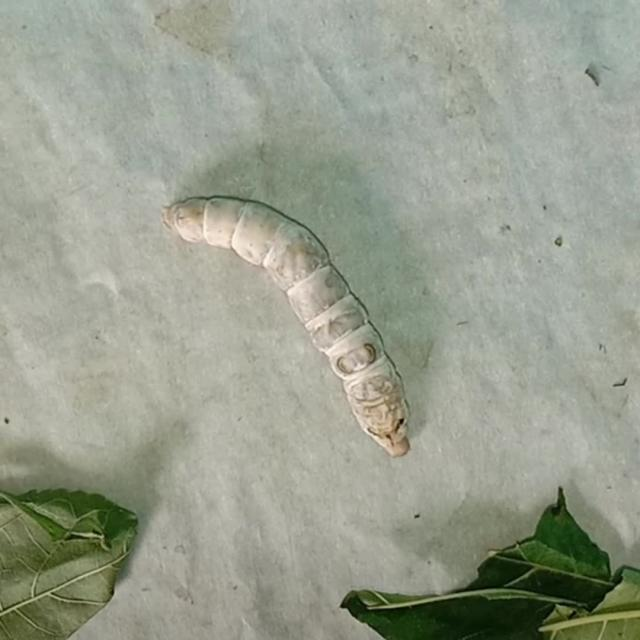Grasserie: (140, 170, 460, 487)
